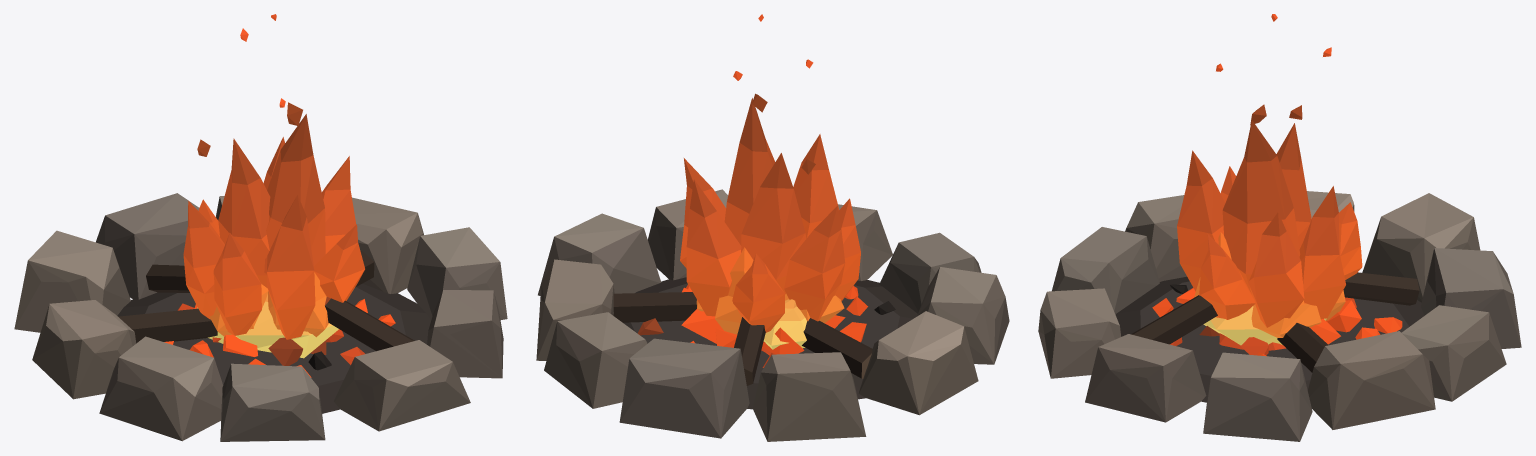
File: tl_fx_campfire_v01.glb
3 renders of one model, left to right at view 1: azimuth 30°, elevation 25°; view 2: azimuth 150°, elevation 25°; view 3: azimuth 270°, elevation 25°, orthographic.
Parts seen in each view (by area): view 1: tl_fx_campfire_v01, flame_outer, flame_core, flame_mid, sparks; view 2: tl_fx_campfire_v01, flame_outer, flame_mid, flame_core; view 3: tl_fx_campfire_v01, flame_outer, flame_mid, flame_core, sparks.
Part boxes in pixels (left/top/right/bottom): tl_fx_campfire_v01: left=14, top=193, right=507, bottom=441; flame_outer: left=183, top=114, right=364, bottom=339; flame_core: left=197, top=294, right=338, bottom=358; flame_mid: left=209, top=272, right=328, bottom=337; sparks: left=197, top=14, right=302, bottom=156; tl_fx_campfire_v01: left=536, top=189, right=1009, bottom=441; flame_outer: left=680, top=98, right=860, bottom=332; flame_mid: left=696, top=247, right=844, bottom=334; flame_core: left=763, top=299, right=806, bottom=349; tl_fx_campfire_v01: left=1038, top=191, right=1521, bottom=441; flame_outer: left=1177, top=120, right=1362, bottom=327; flame_mid: left=1194, top=232, right=1345, bottom=337; flame_core: left=1203, top=306, right=1326, bottom=345; sparks: left=1216, top=14, right=1331, bottom=124.
Size of the model in its own units: 2.2 by 1.62 by 2.19.
